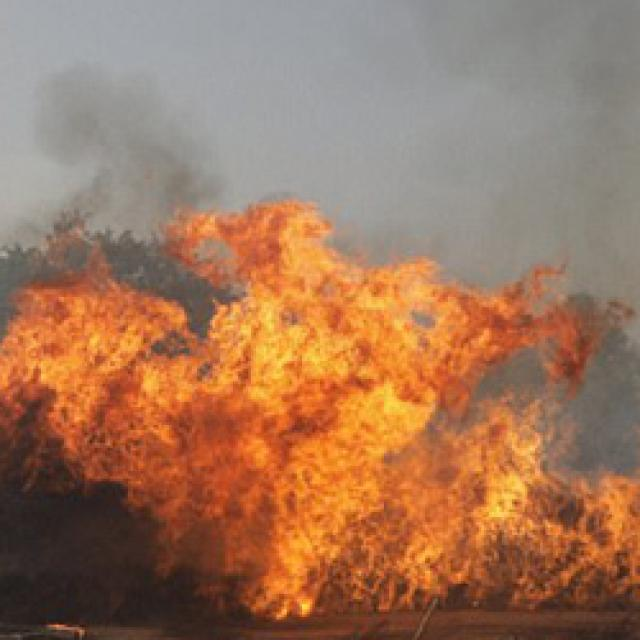Fire: (0, 191, 640, 640)
Smoke: (386, 0, 640, 253), (38, 49, 214, 205), (558, 351, 640, 468)
